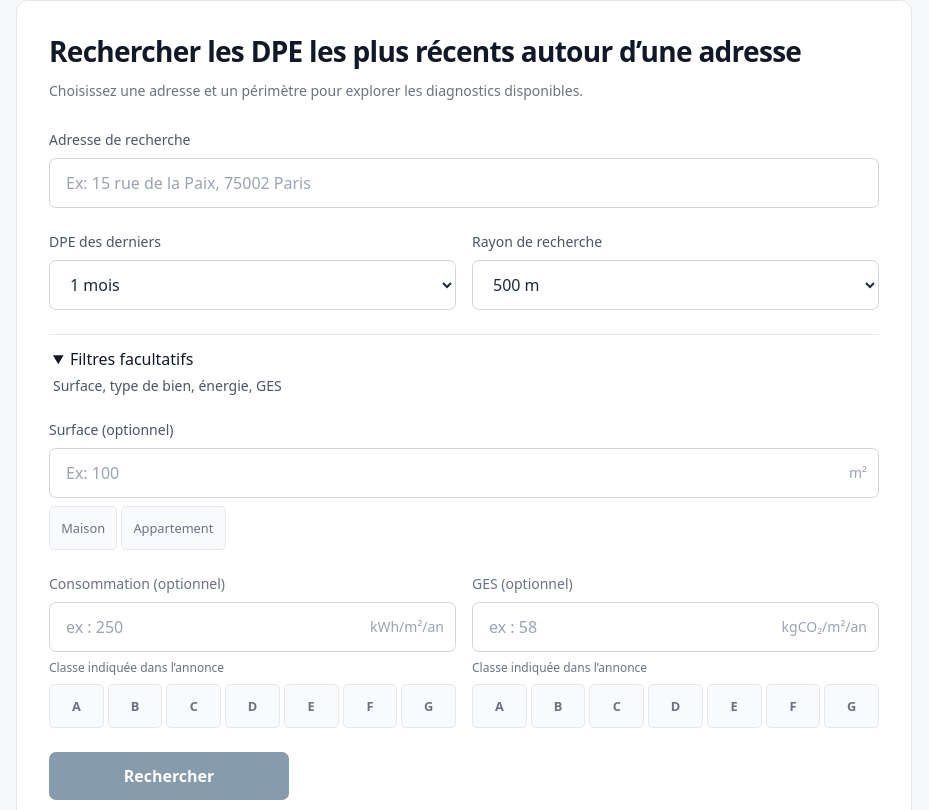
Scenario: nearby optional filter disclosure › preserves values and shows every active criterion when the user closes and reopens filters
Type "65,5" into the field with id "nearby-surface" at (464, 473), box [49, 448, 879, 498]
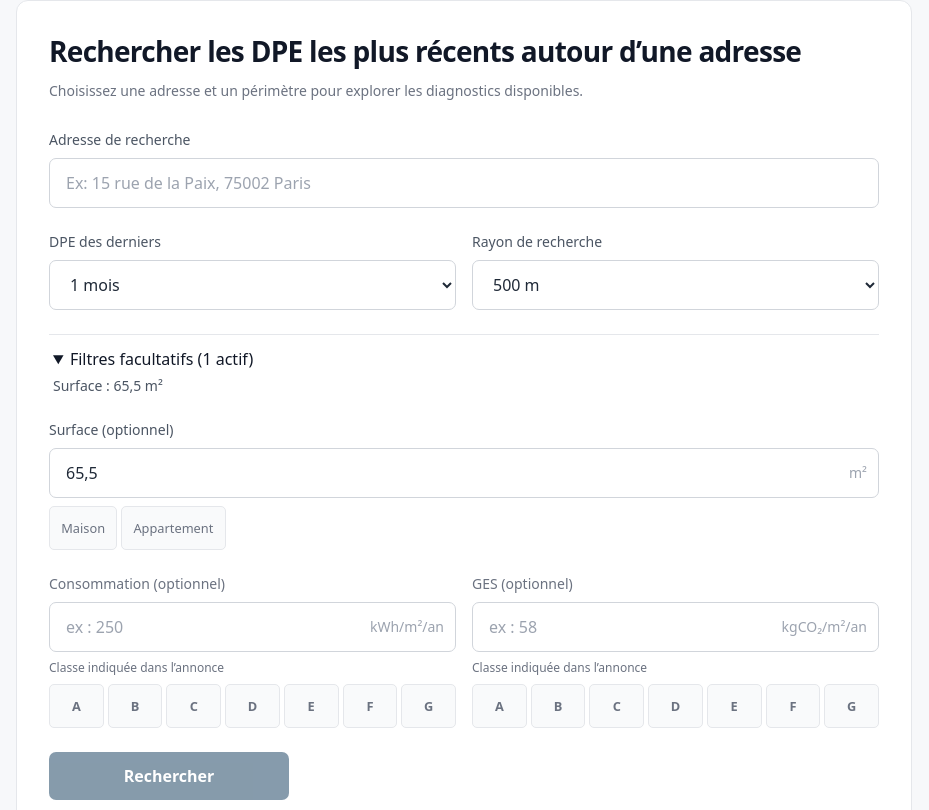
Click the button titled "Maison" at (83, 528), box [49, 506, 117, 550]
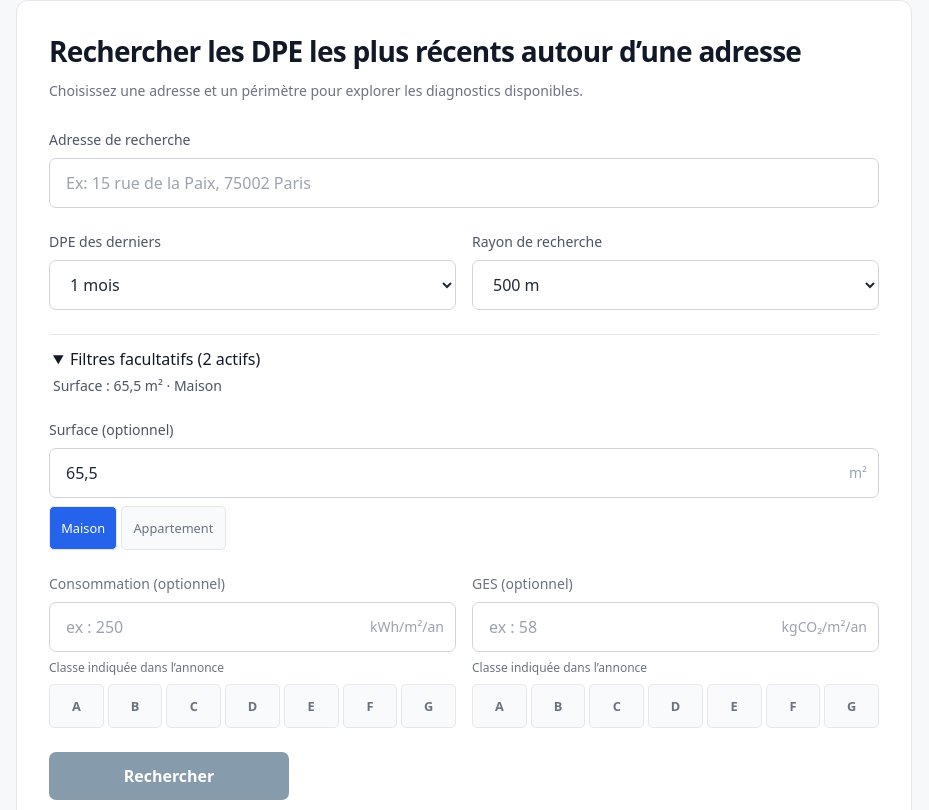
Click the button named "Classe énergétique C" at (194, 706), box [166, 684, 221, 728]
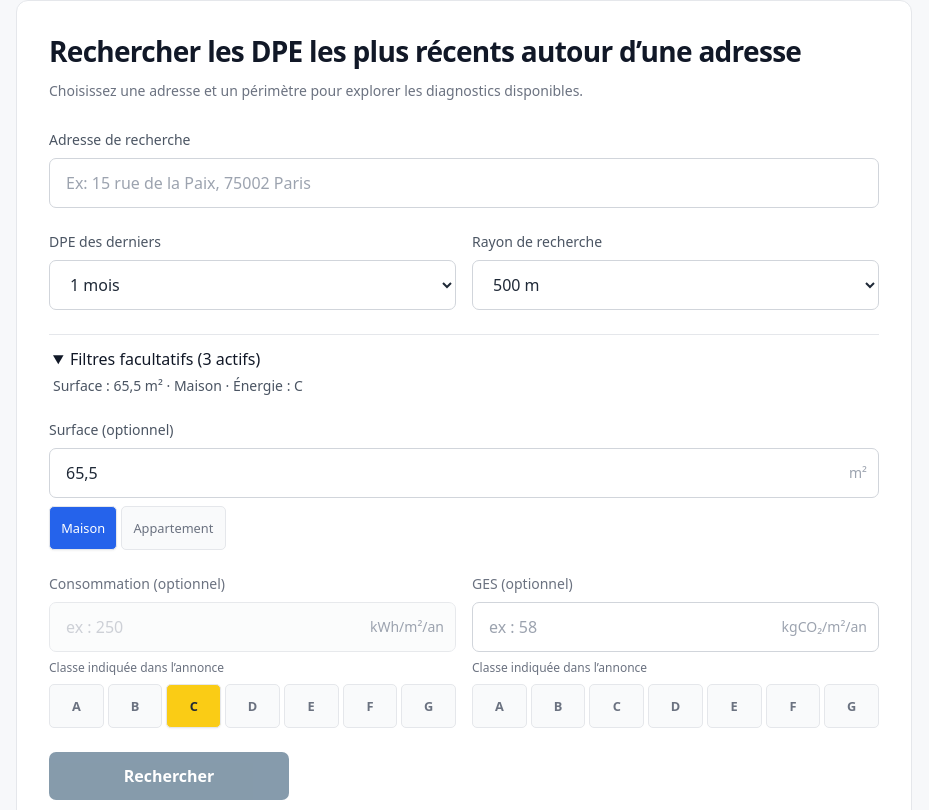
Click the button named "Classe énergétique D" at (252, 706), box [225, 684, 280, 728]
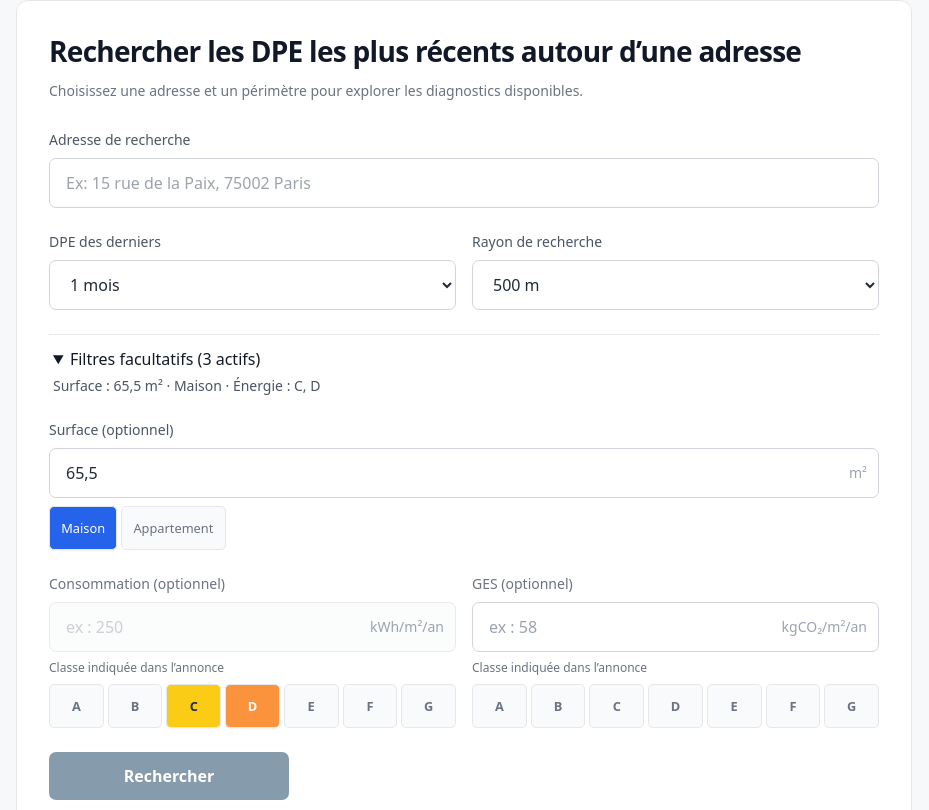
Type "0" into the field with id "nearby-ges" at (676, 627), box [472, 602, 879, 652]
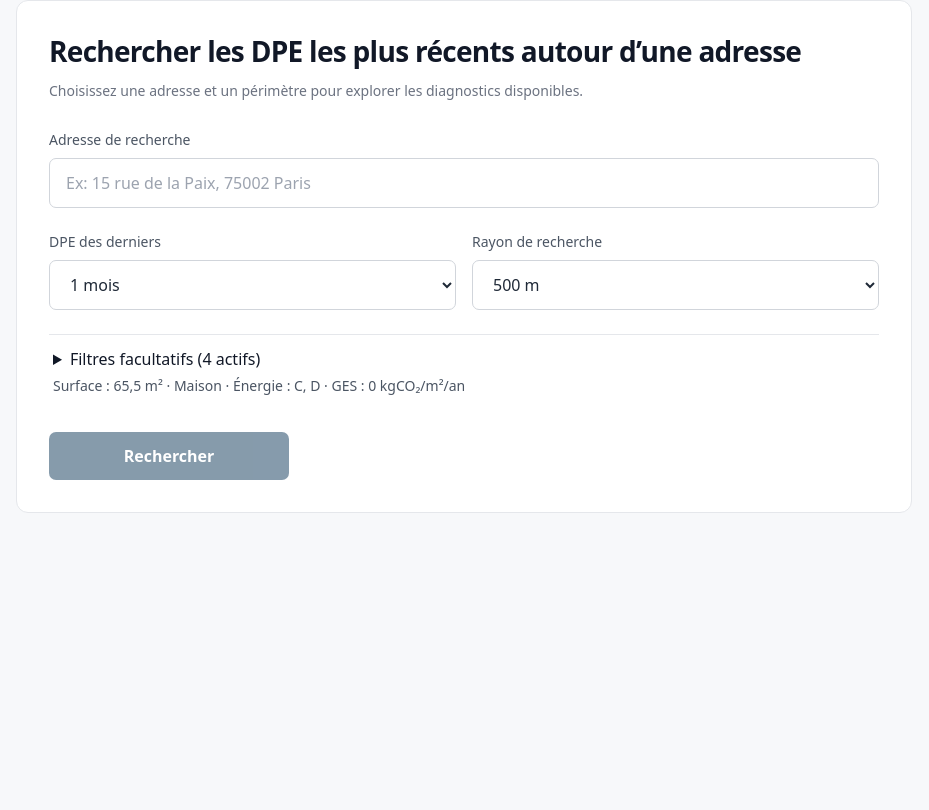
Result: the heading that starts with "Filtres facultatifs" shows "Surface : 65,5 m²" at [53, 348, 465, 395]
Result: the heading that starts with "Filtres facultatifs" shows "Maison" at [53, 348, 465, 395]
Result: the heading that starts with "Filtres facultatifs" shows "4 actifs" at [53, 348, 465, 395]
Type "Paris" into the field with id "nearby-address" at (464, 183), box [49, 158, 879, 208]
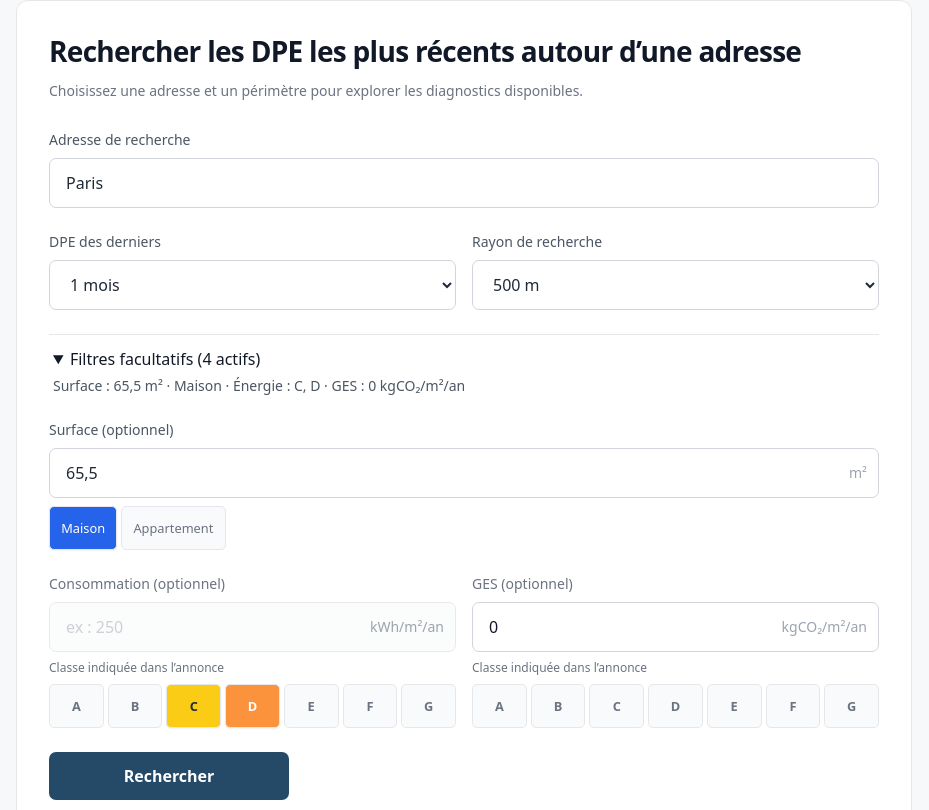
Result: the field with id "nearby-consommation" is disabled at [49, 602, 456, 652]
